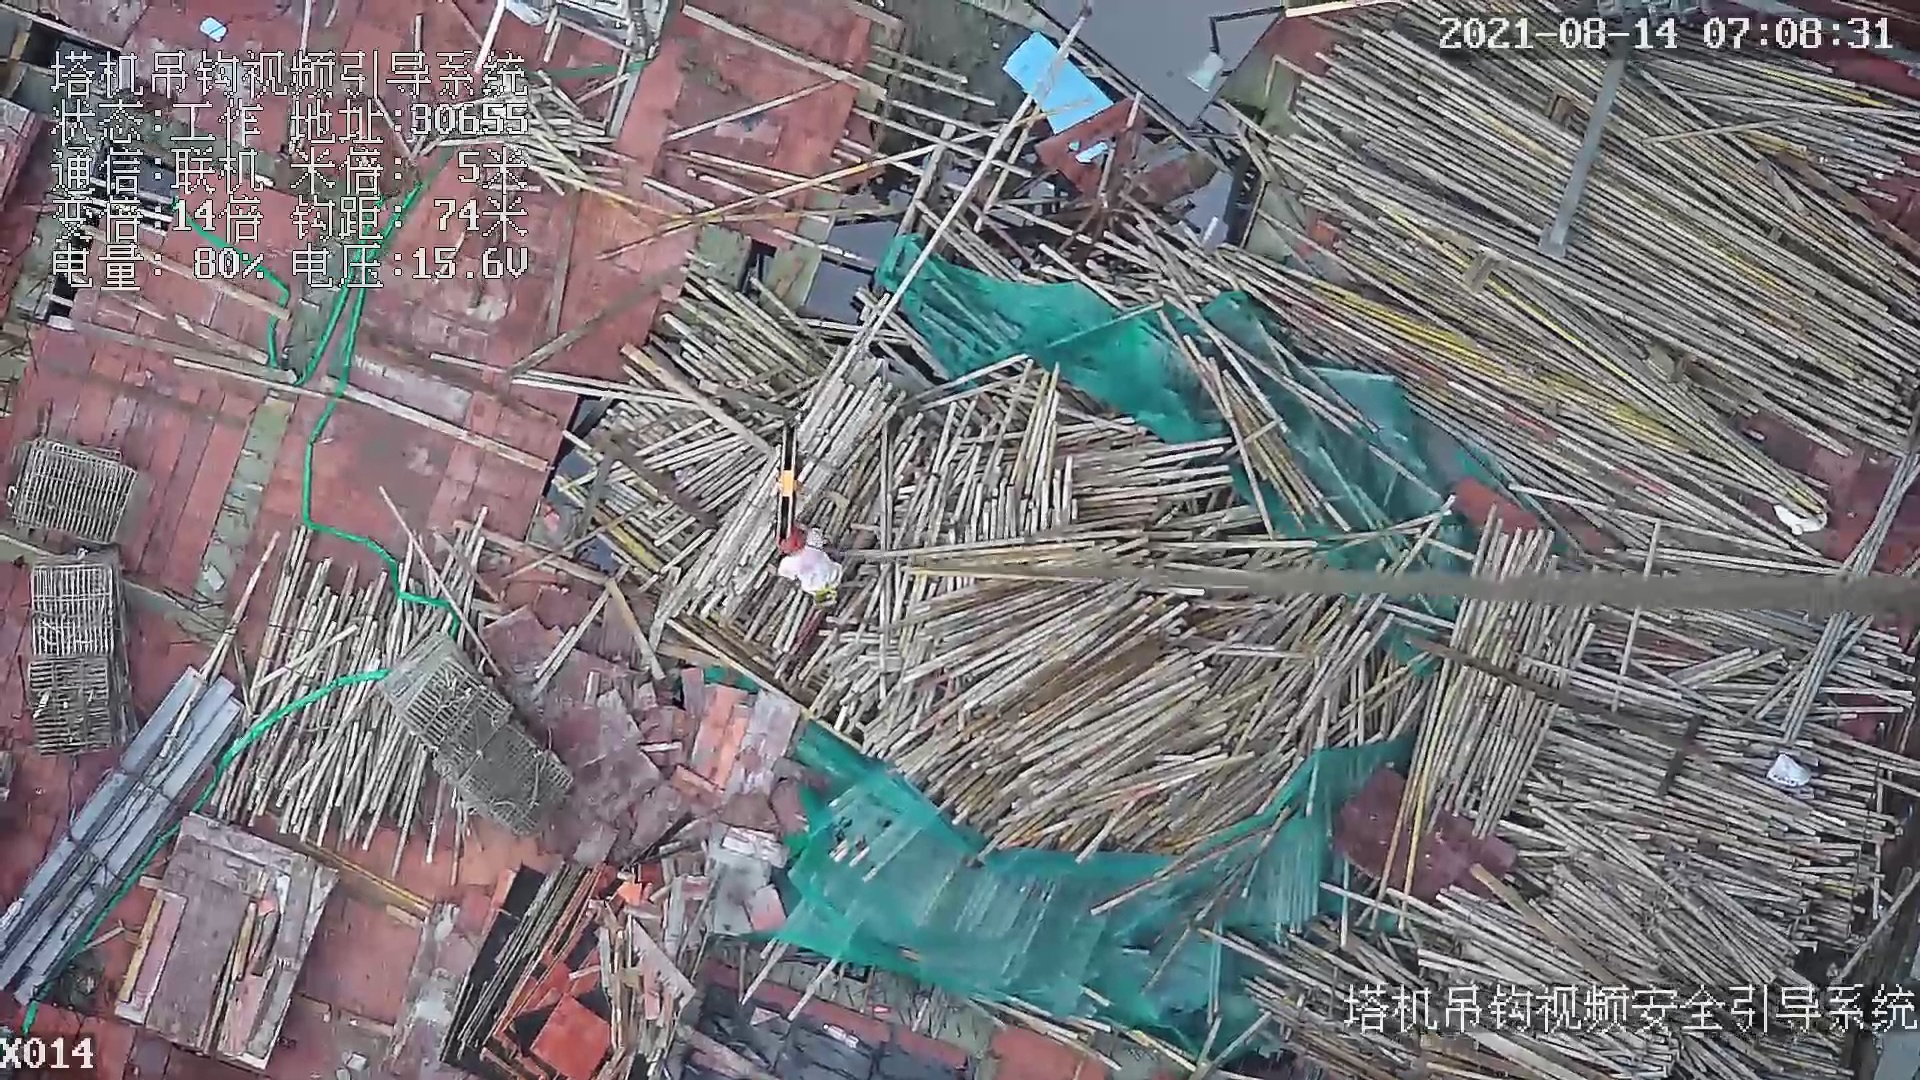helmet: (778, 528, 808, 555)
hook: (767, 428, 806, 553)
person: (769, 526, 845, 608)
